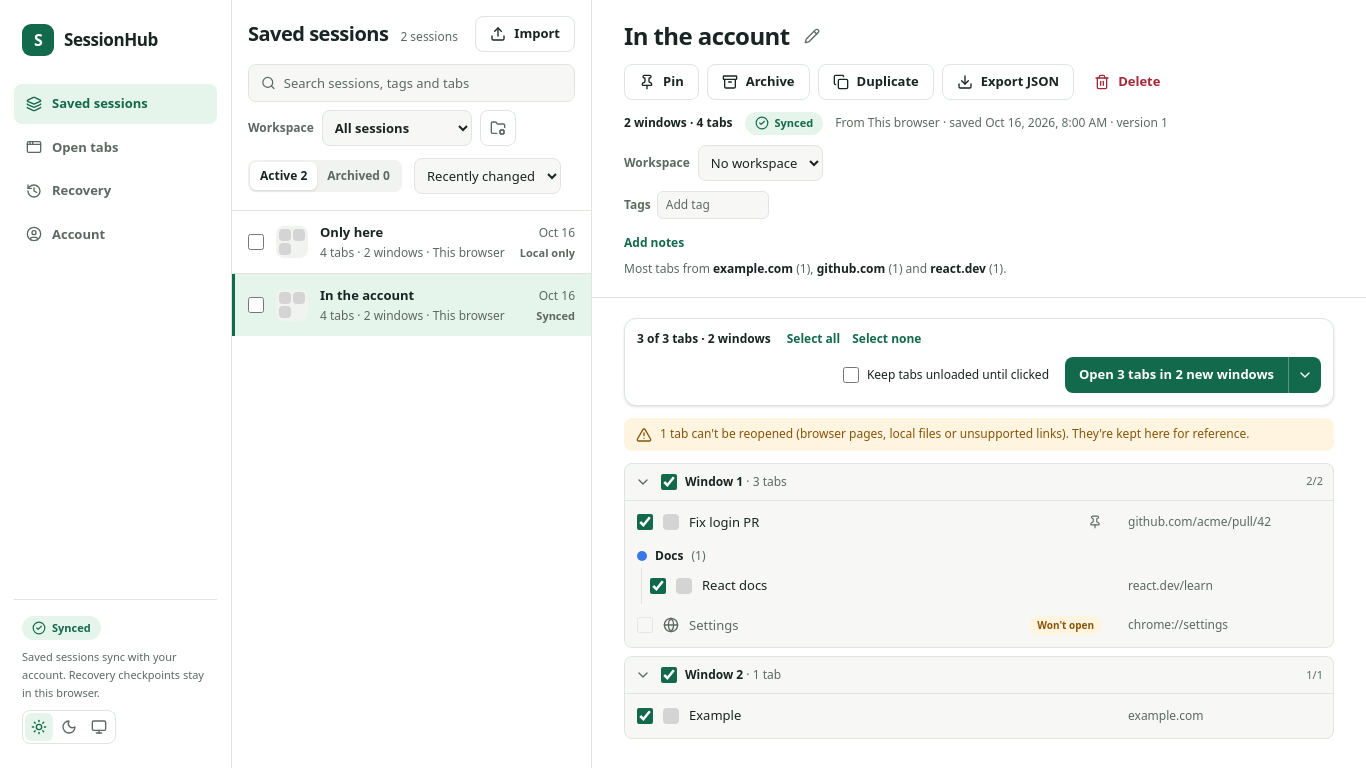
sync opt-in and status › labels each session and warns that deleting an account session reaches other browsers
The image size is (1366, 768).
Expected: the button "Only here" shows "Local only", [268,211,591,273]
Expected: the button "In the account" shows "Synced", [268,274,591,336]
What coordinates should you click on to do the following:
click the button "Delete"
I would click on:
 (1127, 82)
Its box is [1082,64,1172,100].
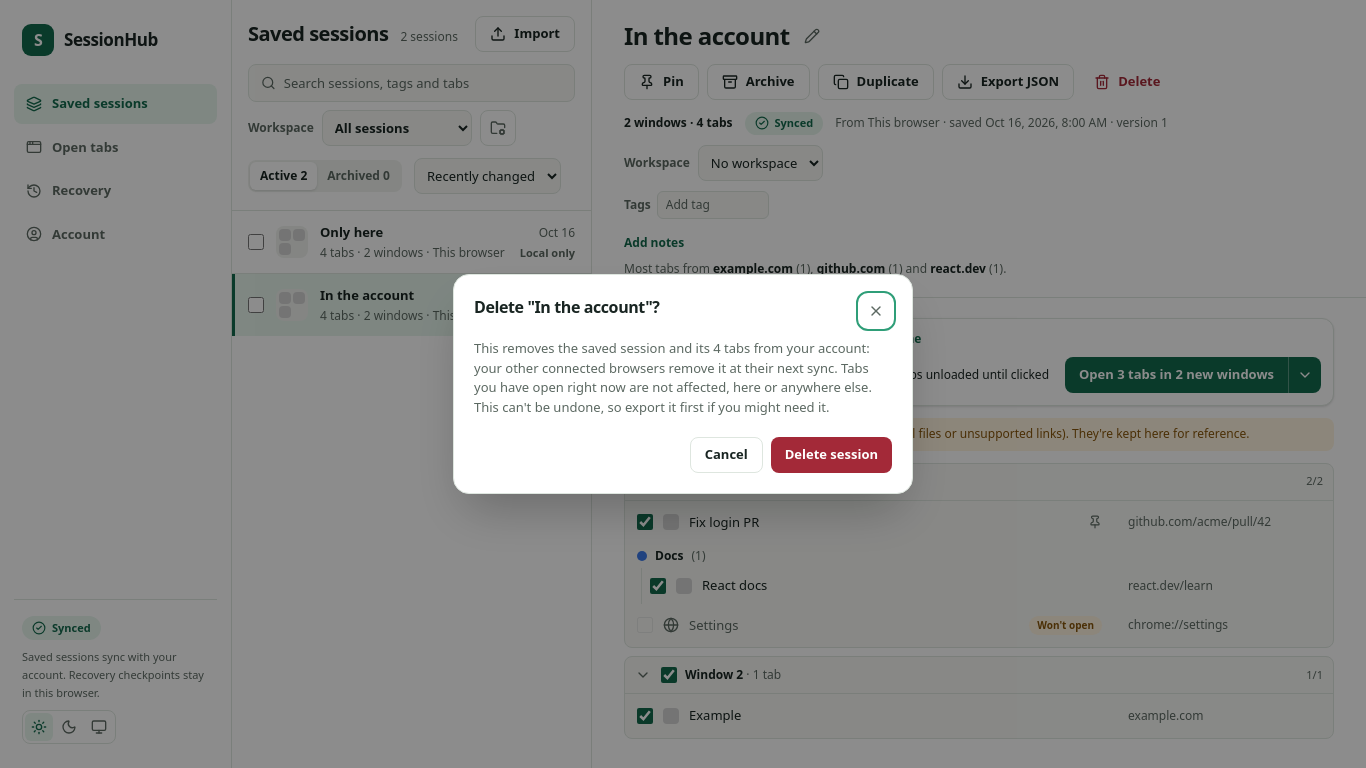
Expected: the text "from your account: your other connected browsers remove it at their next sync" is shown, [474,339,870,376]
